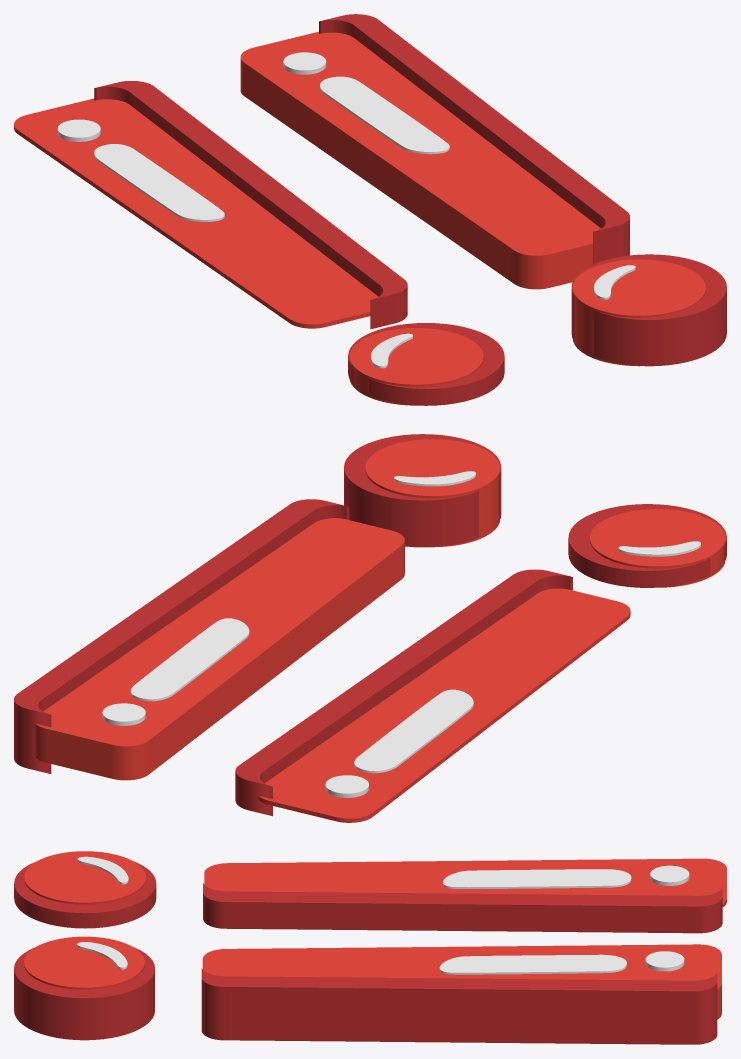
File: emoji_u203c.glb
The picture shows the model from 3 angles, top to bottom: view 1: azimuth 30°, elevation 25°; view 2: azimuth 150°, elevation 25°; view 3: azimuth 270°, elevation 25°; orthographic projection. The views are drawn at different scales.
Parts seen in each view (by area): view 1: emoji_u203c; view 2: emoji_u203c; view 3: emoji_u203c.
Boxes of the visible parts, x1,y1,x2,y2 form: emoji_u203c: (14, 14, 726, 405); emoji_u203c: (14, 434, 726, 822); emoji_u203c: (14, 851, 726, 1044).
Size of the model in its own units: 0.0178 by 0.0028 by 0.0339.
